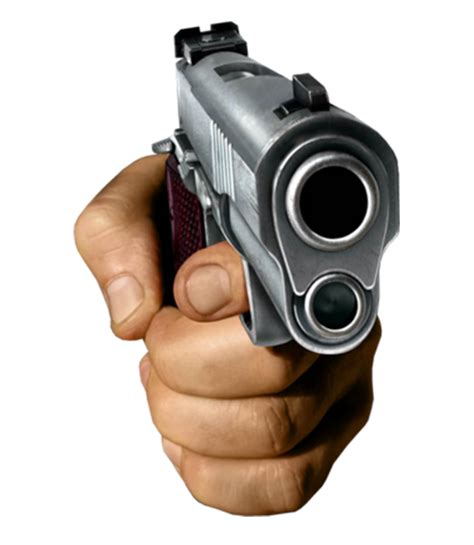gun: (151, 18, 402, 355)
